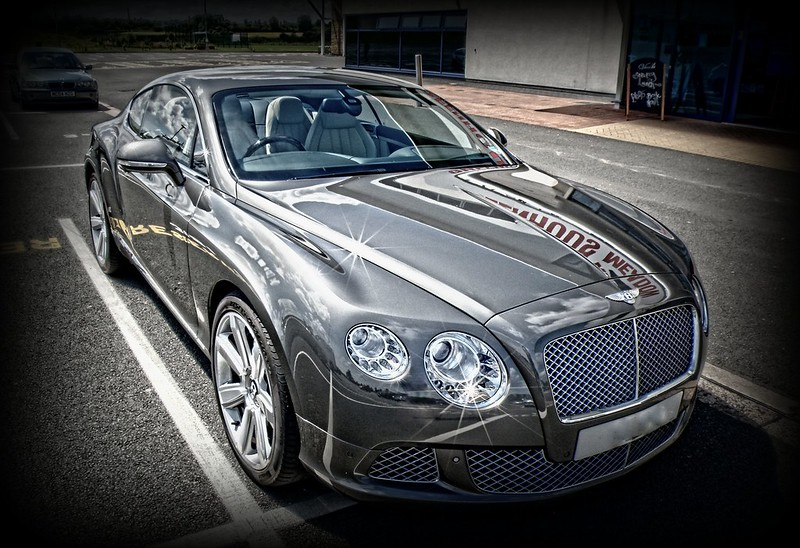car: (91, 65, 725, 496), (16, 45, 105, 106)
